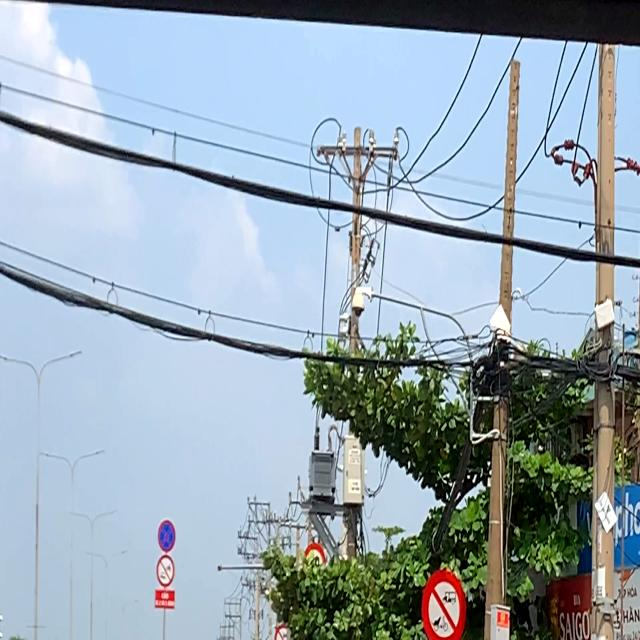P.130: (156, 518, 176, 554)
